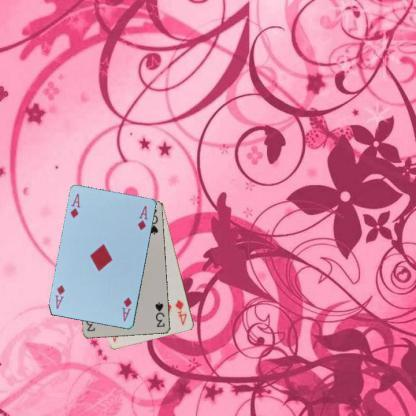3s: (152, 300, 166, 328)
4d: (172, 298, 188, 326)
Ad: (119, 294, 134, 324), (68, 191, 82, 220)
